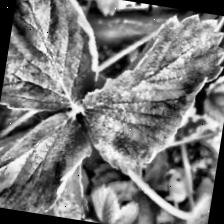Powdery Mildew Leaf: (73, 0, 224, 188), (0, 0, 111, 123), (0, 100, 98, 220)
